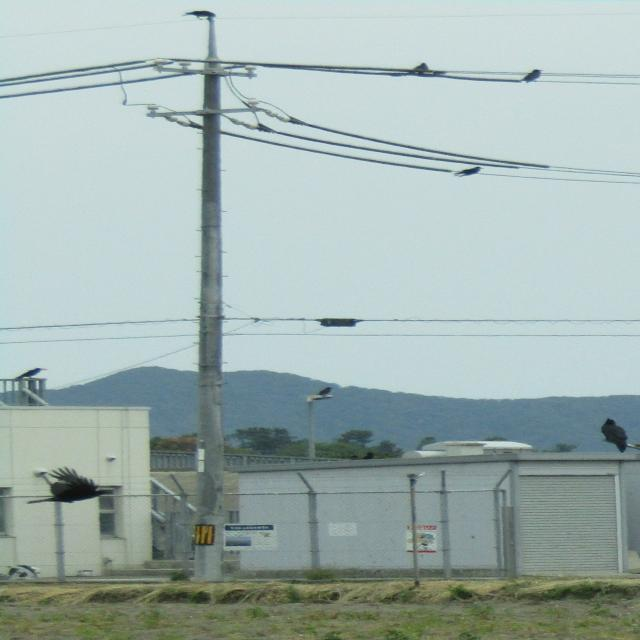pole: (123, 8, 272, 591)
